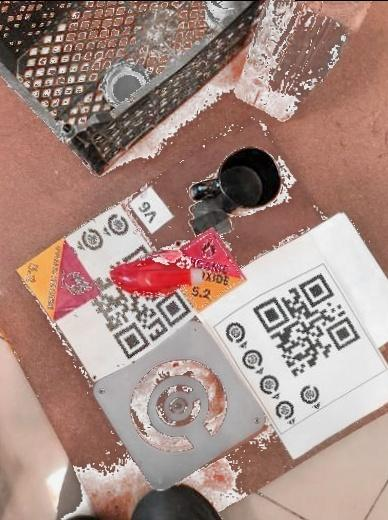organic-peroxide: (12, 239, 105, 331), (161, 226, 247, 311)
